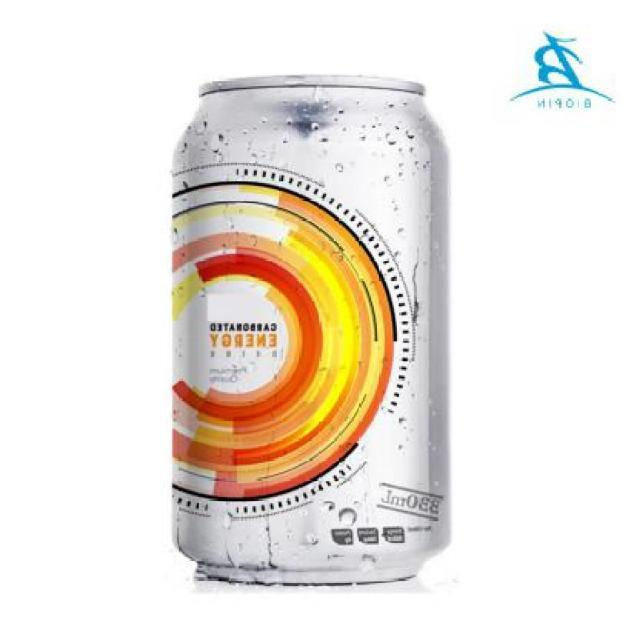can: (128, 66, 470, 612)
